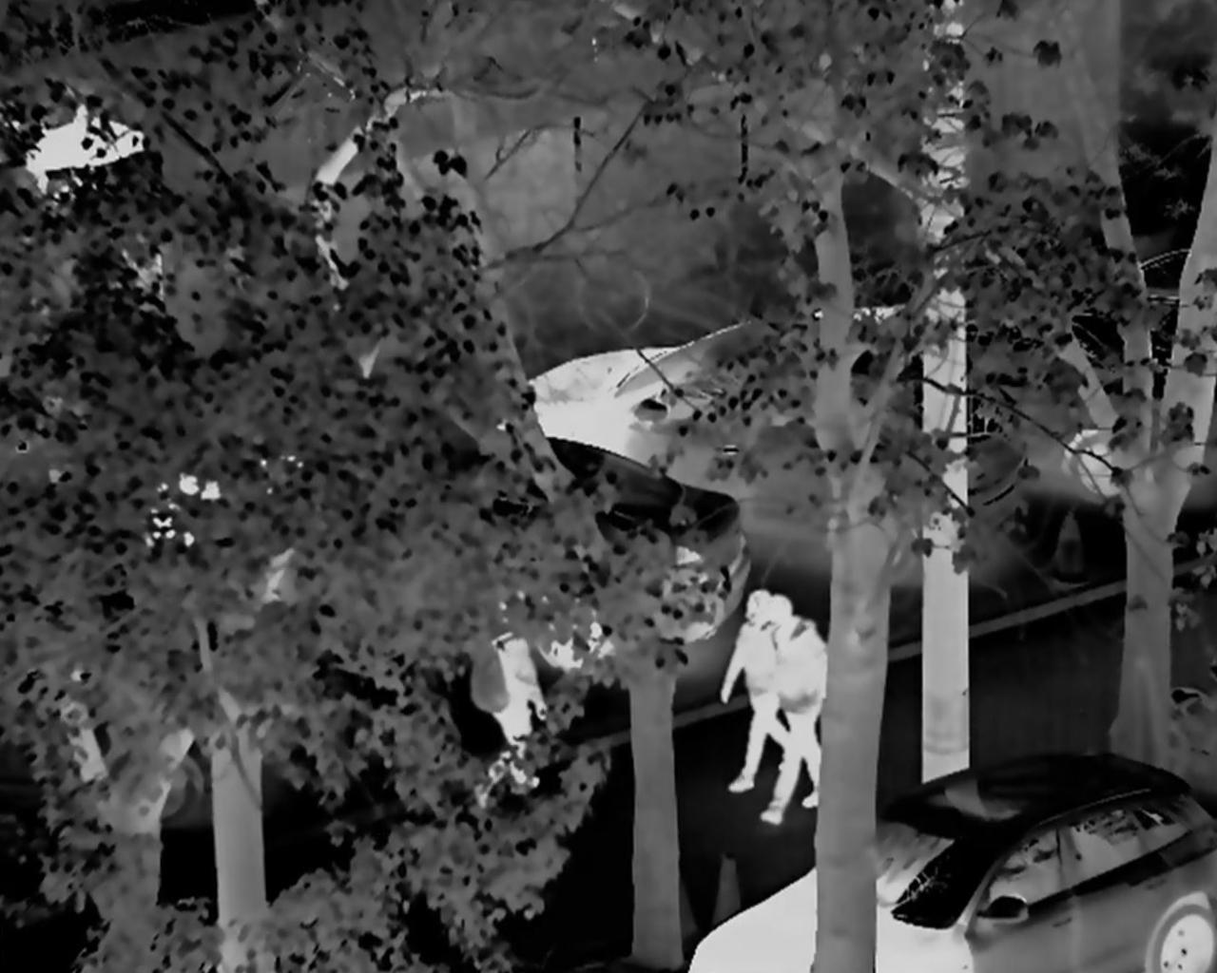person: (760, 599, 841, 821), (473, 612, 550, 811), (719, 584, 788, 795)
